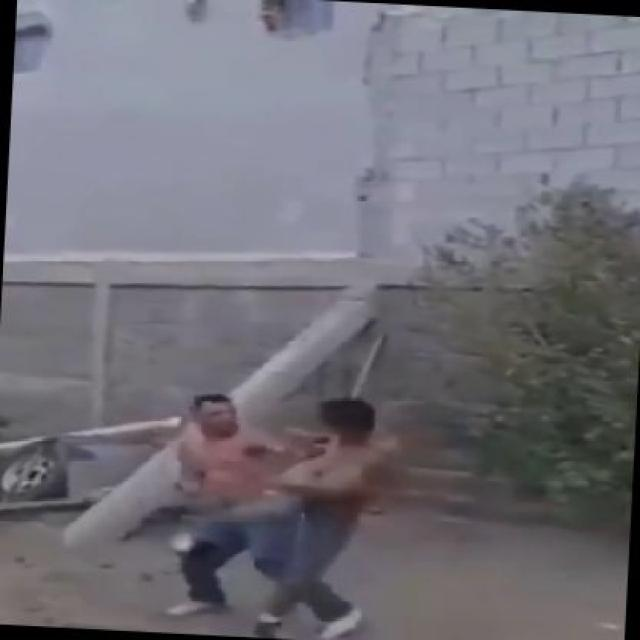fight: (165, 386, 402, 639)
